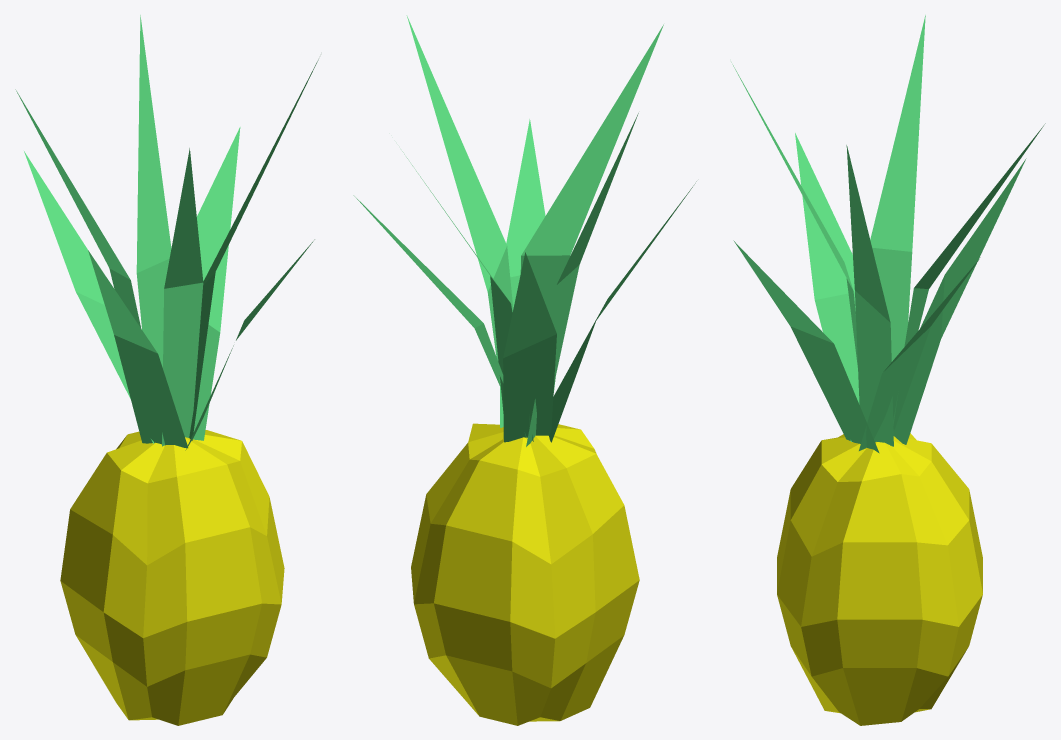
Rendered from pineapple.fbx.
3 renders of one model, left to right at view 1: azimuth 30°, elevation 25°; view 2: azimuth 150°, elevation 25°; view 3: azimuth 270°, elevation 25°, orthographic. The views are drawn at different scales.
Visible parts, largest first — view 1: pineapple; view 2: pineapple; view 3: pineapple.
Part boxes in pixels (left/top/right/bottom): pineapple: left=15, top=15, right=318, bottom=725; pineapple: left=353, top=15, right=696, bottom=725; pineapple: left=731, top=15, right=1045, bottom=725.
Size of the model in its own units: 44.46 by 103 by 46.23.
Materials: 1 (1 with a texture image).
